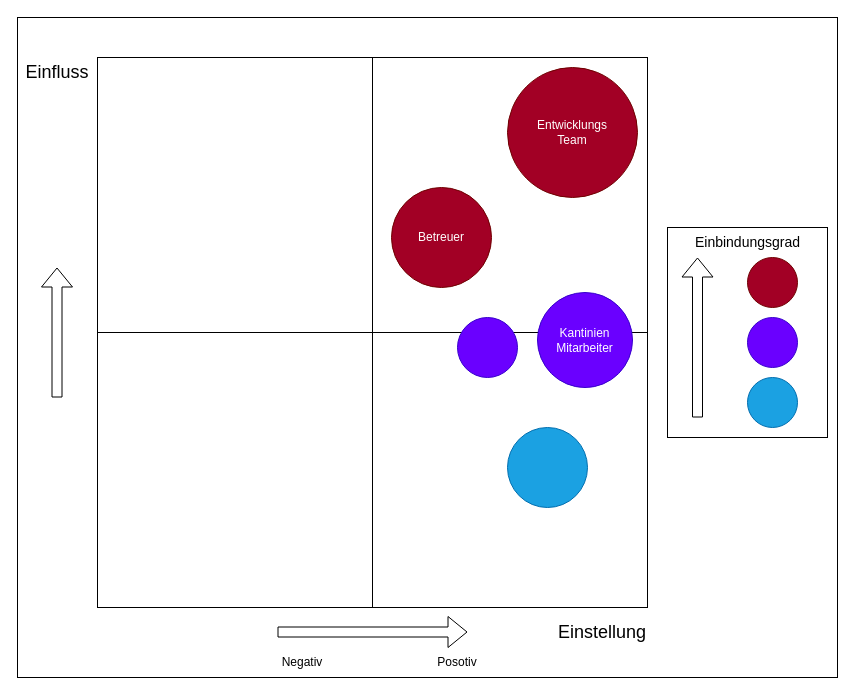
Image size: 855x695. Some labels were removed from this diagram. Each missing label, with the centre of its shape:
Finanzabteilung: [487,347]
Mitarbeiter: [547,467]
